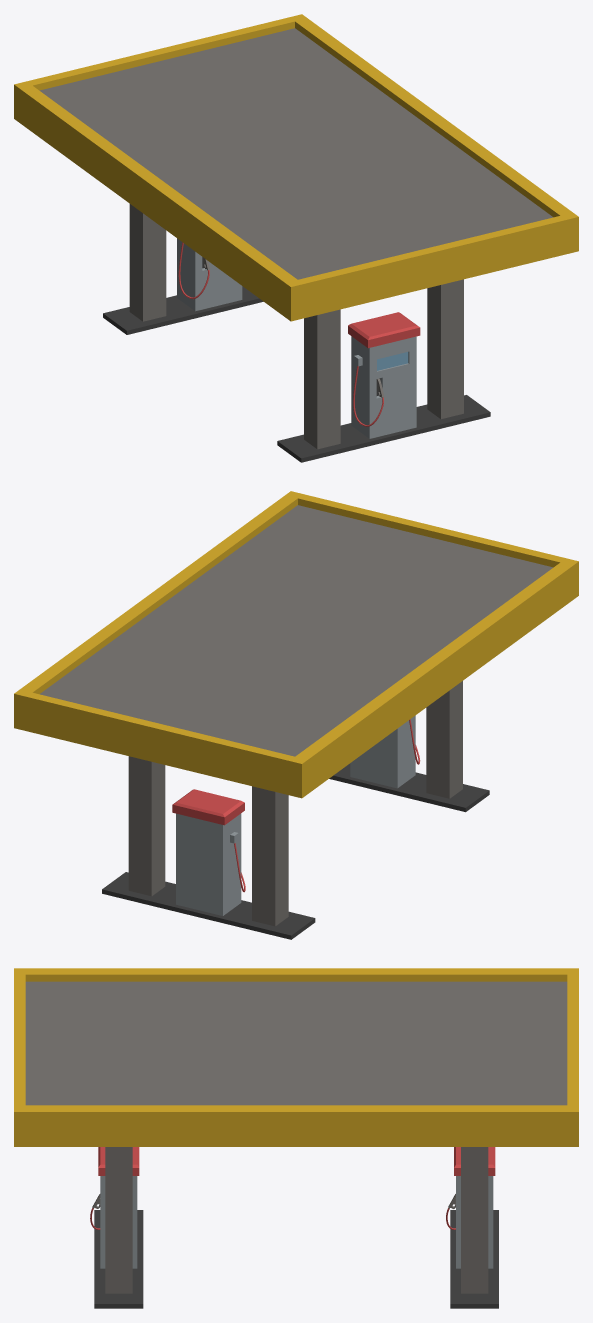
File: Gas_Station_01.fbx
3 views of the same model, one above another, from view 1: azimuth 30°, elevation 25°; view 2: azimuth 150°, elevation 25°; view 3: azimuth 270°, elevation 25° (orthographic). The views are drawn at different scales.
Visible parts, largest first — view 1: Gas_Station_01; view 2: Gas_Station_01; view 3: Gas_Station_01.
Part boxes in pixels (x1=…): Gas_Station_01: x1=14, y1=14, x2=578, y2=462; Gas_Station_01: x1=14, y1=491, x2=578, y2=939; Gas_Station_01: x1=14, y1=968, x2=578, y2=1308.
Size of the model in its own units: 10.59 by 7.61 by 17.63.
